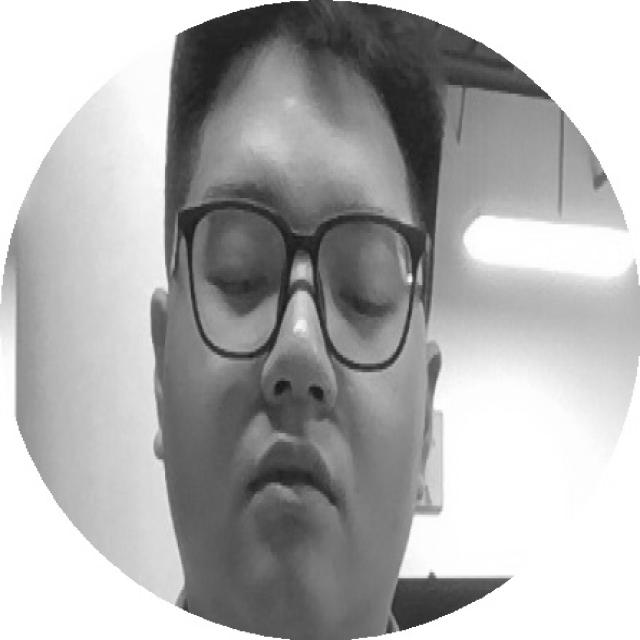real: (158, 35, 441, 590), (173, 220, 434, 356)
